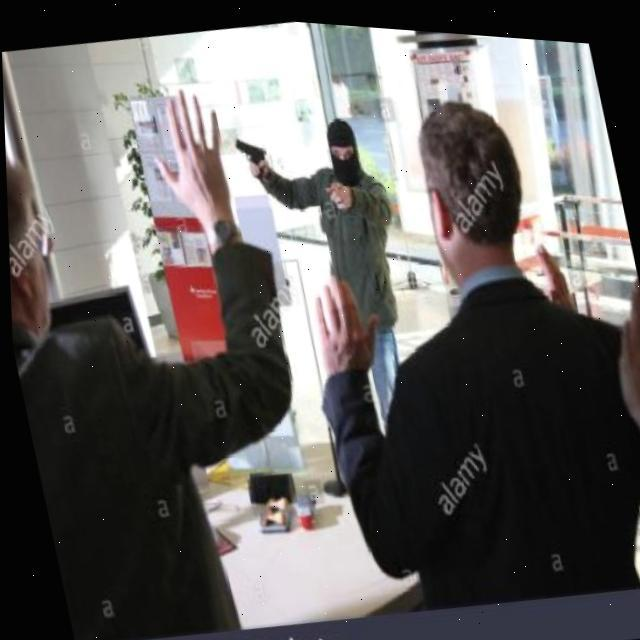gun: (232, 130, 271, 179)
